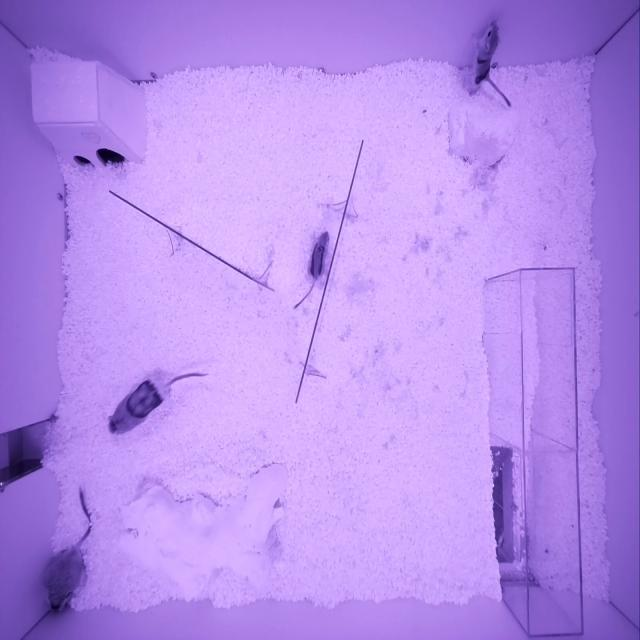adult_back: (108, 379, 166, 435)
adult_front: (45, 548, 82, 613)
pup_h_stripe: (471, 20, 500, 86)
pup_v_stripe: (307, 231, 329, 280)
